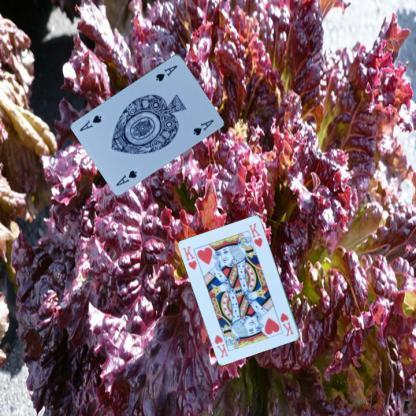As: (113, 167, 138, 187), (154, 62, 178, 82)
Kh: (180, 243, 198, 272), (278, 310, 296, 338)
